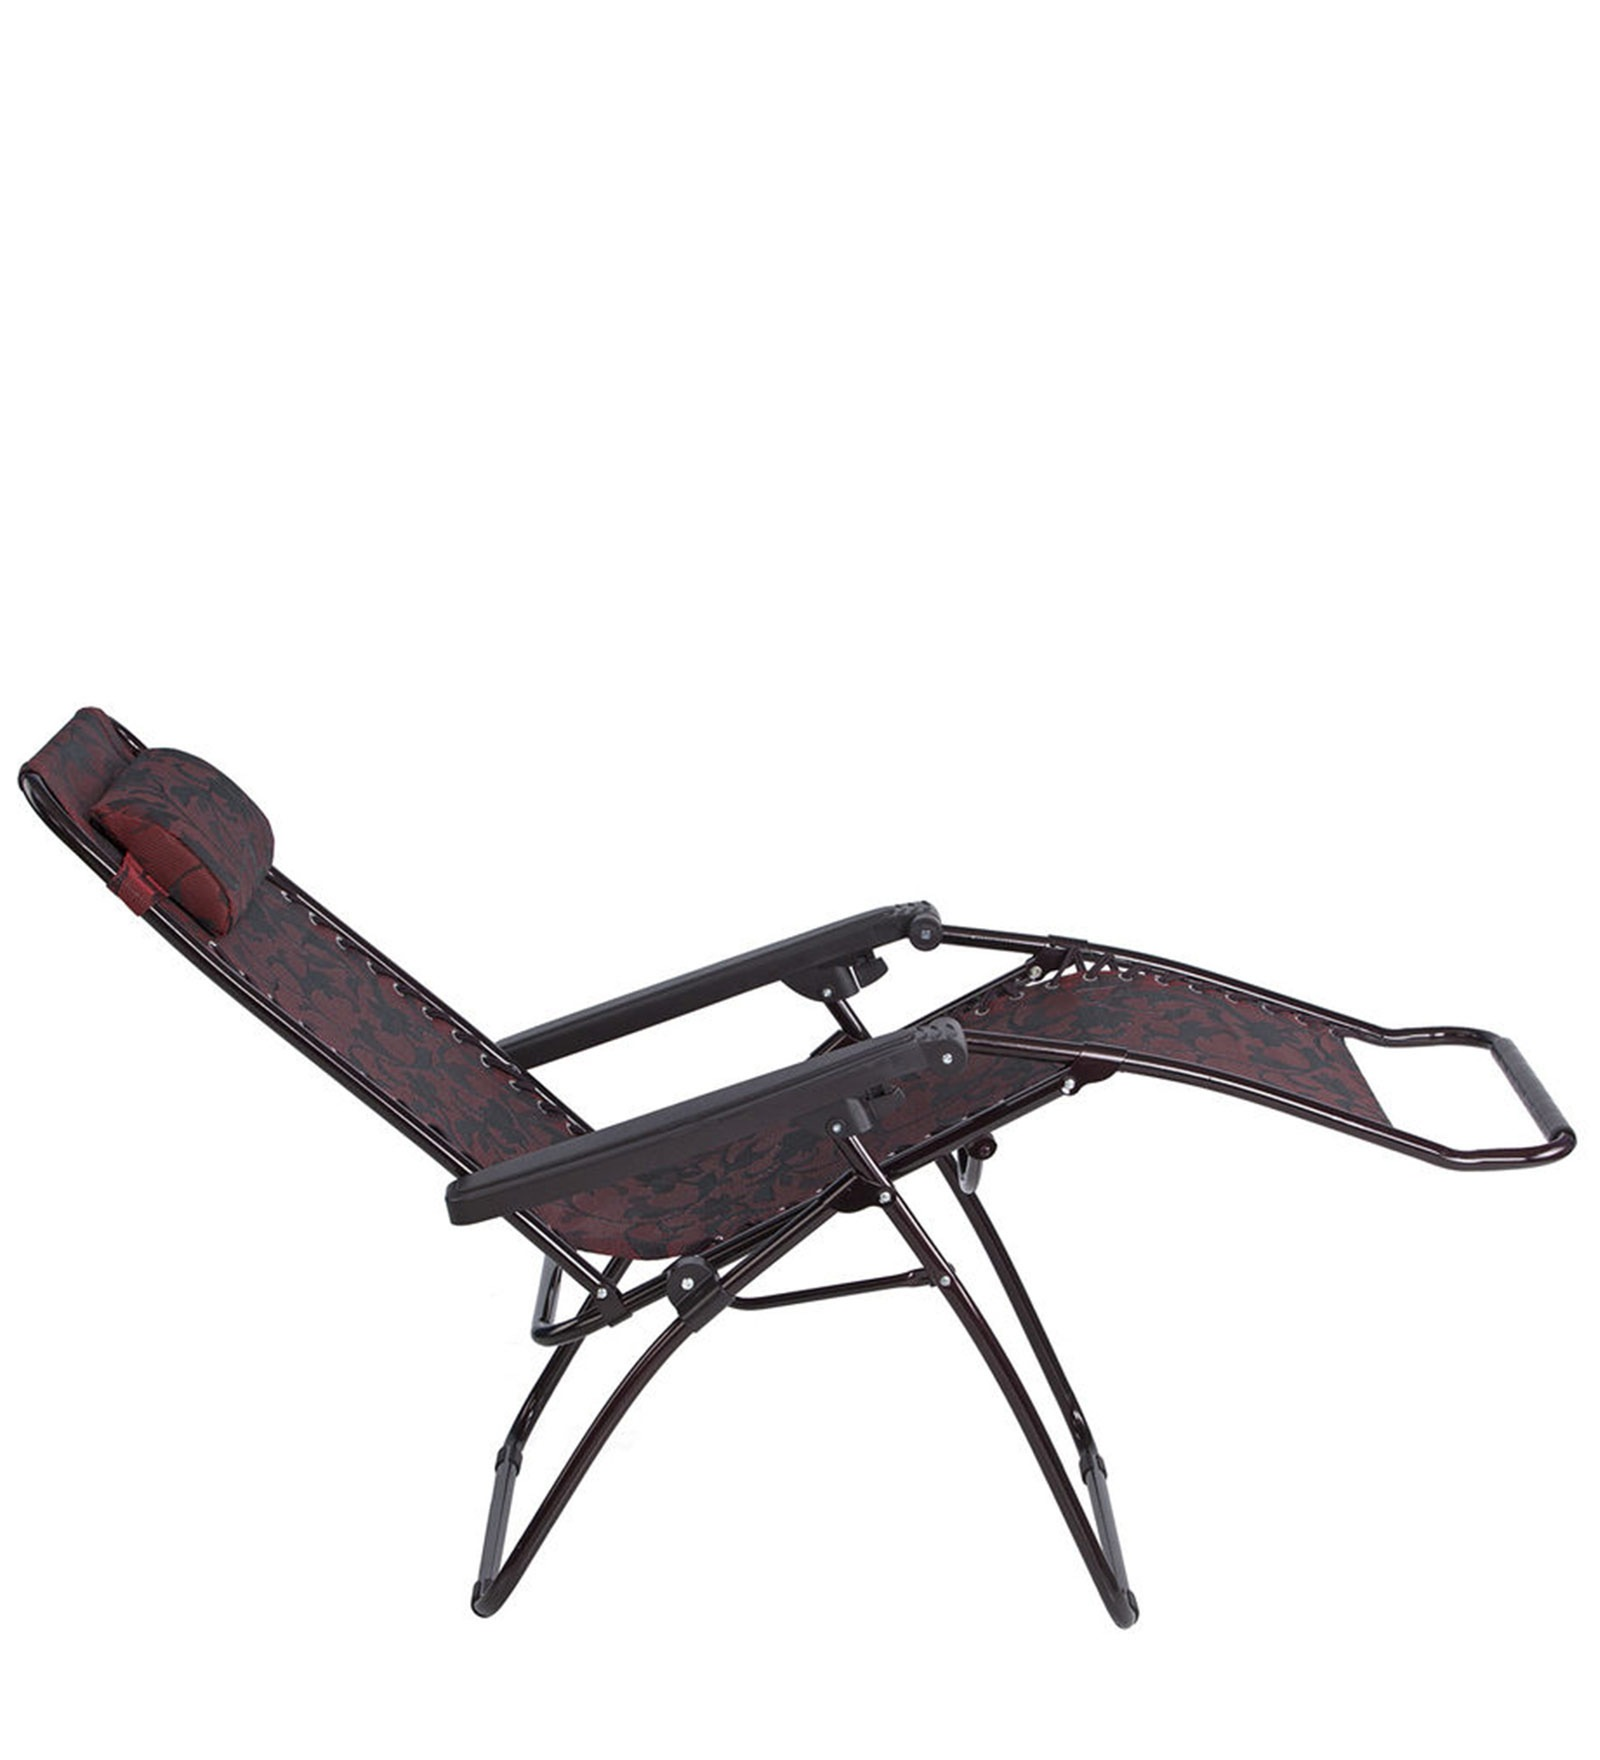Frolic Easy Foldable Chair in Purple & Red Colour by Nilkamal: (20, 662, 1588, 1706)
